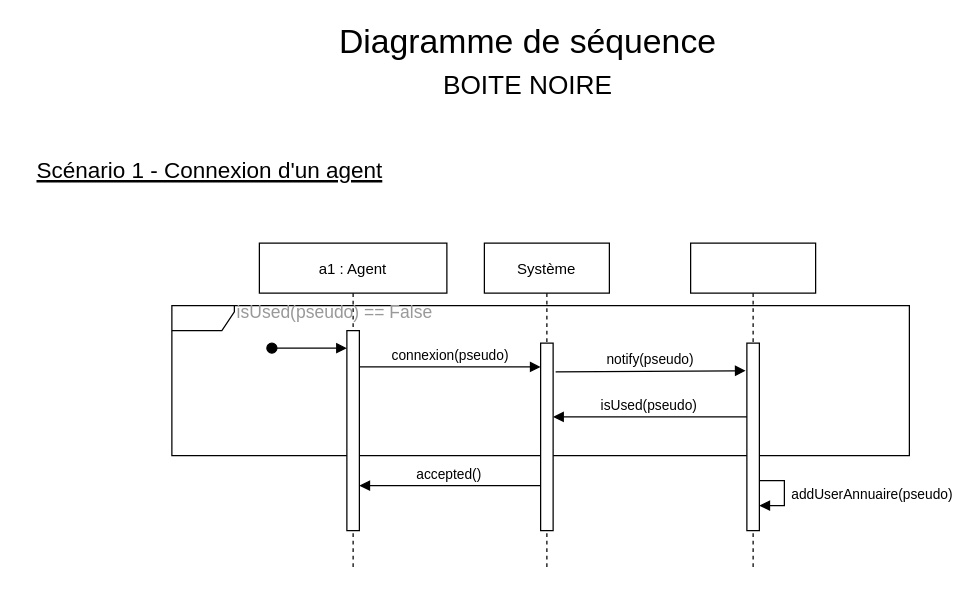
The diagram is 974 pixels wide and 590 high, and some of its shapes have lost their labels. The box of each missing label's shape, as (x1, y1, x2, y2) in pixels:
a2 : Agent: (689, 242, 816, 568)
loop: (171, 304, 909, 456)
